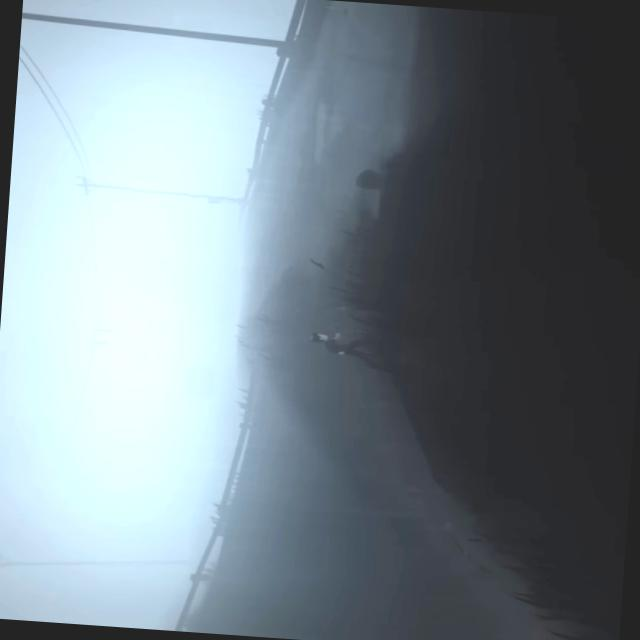boy: (308, 332, 346, 356)
